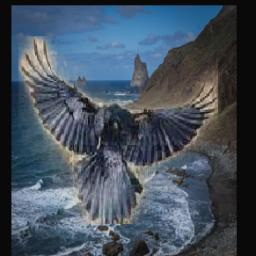Crow: (19, 36, 219, 224)
